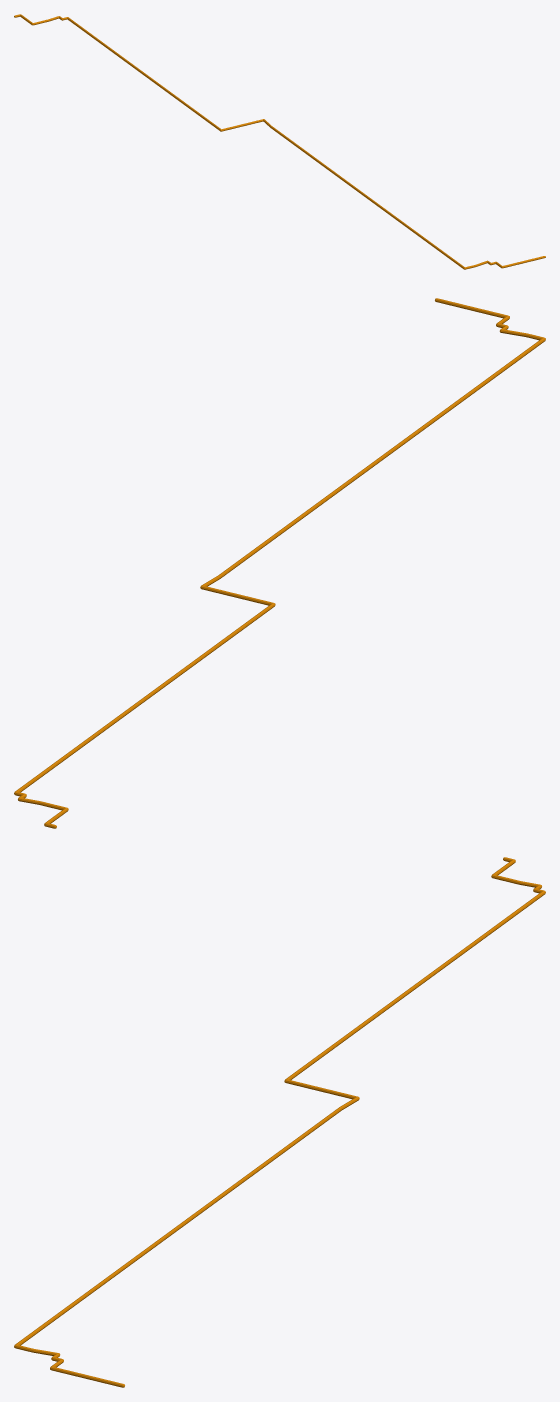
3 views of the same model, one above another, from view 1: azimuth 30°, elevation 25°; view 2: azimuth 150°, elevation 25°; view 3: azimuth 330°, elevation 25° (orthographic). The views are drawn at different scales.
Size of the model in its own units: 1440 by 20 by 6182.
